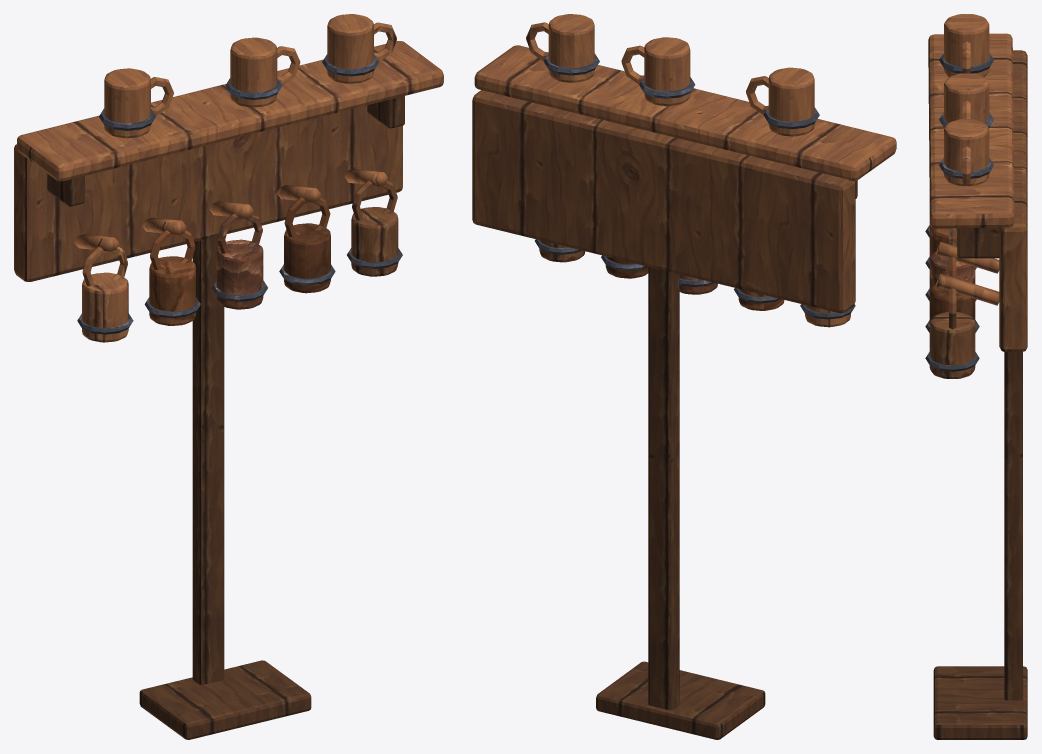
The model's file is mug_rack.glb.
3 views of the same model, side by side, from view 1: azimuth 30°, elevation 25°; view 2: azimuth 150°, elevation 25°; view 3: azimuth 270°, elevation 25° (orthographic). The views are drawn at different scales.
Parts seen in each view (by area): view 1: model; view 2: model; view 3: model.
Boxes of the visible parts, <box> form: model: <box>14,14,443,739</box>; model: <box>472,14,896,739</box>; model: <box>925,14,1027,739</box>.
Size of the model in its own units: 0.9235 by 1.5 by 0.218.
7 materials, 7 textured.
